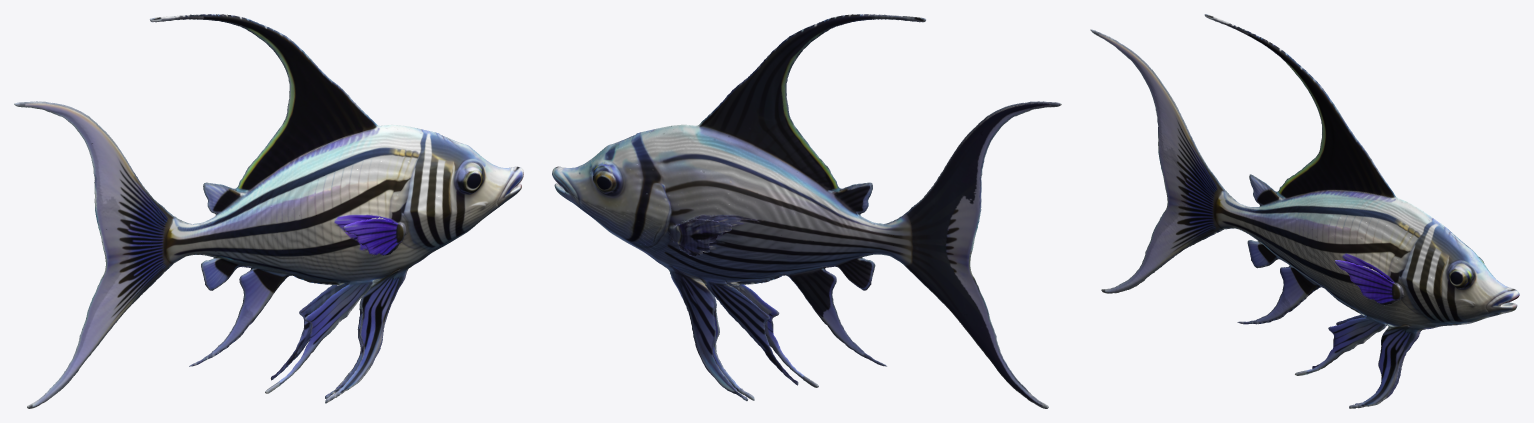
The model's file is Banggai_Cardinalfish_texture.glb.
The picture shows the model from 3 angles, left to right: view 1: azimuth 30°, elevation 25°; view 2: azimuth 150°, elevation 25°; view 3: azimuth 330°, elevation 25°; orthographic projection. The views are drawn at different scales.
Bounding box in the file's own units: 2 × 1.6 × 0.2708.
Materials: 1 (1 with a texture image).
